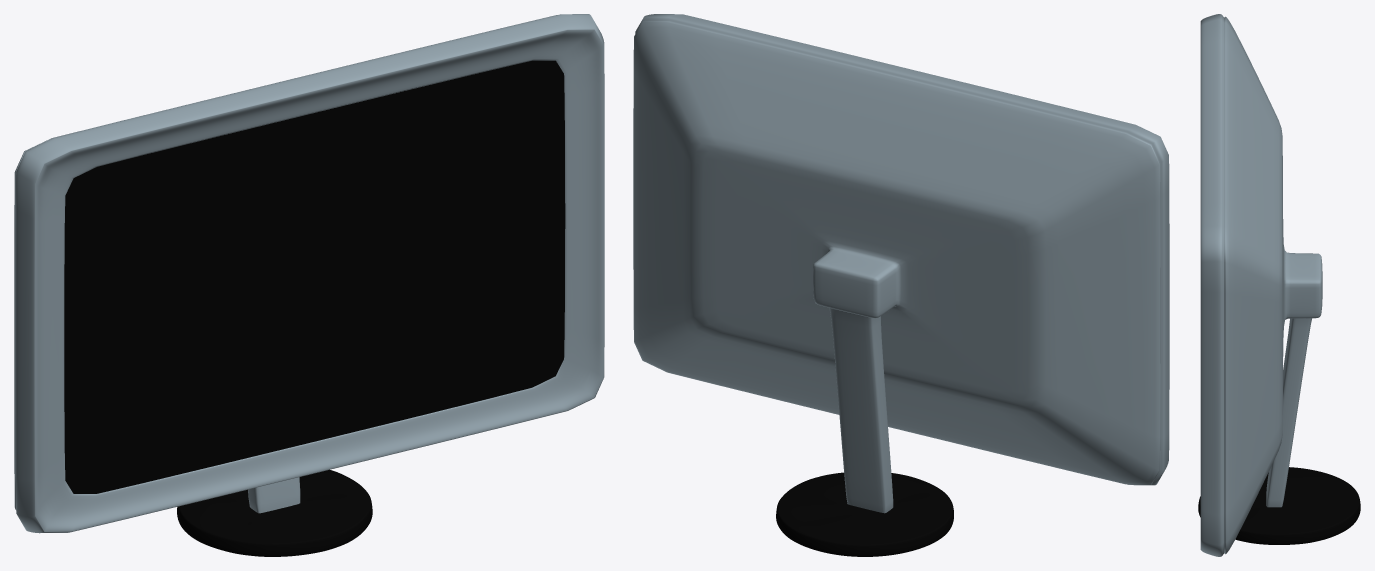
Rendered from desktop new material.fbx.
3 renders of one model, left to right at view 1: azimuth 30°, elevation 25°; view 2: azimuth 150°, elevation 25°; view 3: azimuth 270°, elevation 25°, orthographic. The views are drawn at different scales.
Visible parts, largest first — view 1: pCube1; view 2: pCube1; view 3: pCube1.
Part boxes in pixels (x1=…): pCube1: x1=14, y1=14, x2=604, y2=556; pCube1: x1=633, y1=14, x2=1169, y2=556; pCube1: x1=1198, y1=14, x2=1360, y2=556.
Bounding box in the file's own units: 1.25 × 0.9571 × 0.3626.
